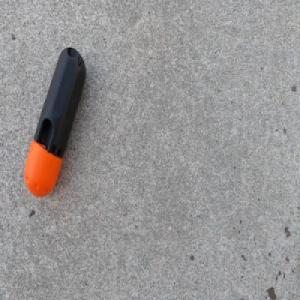PlasticPart: (23, 45, 87, 198)
